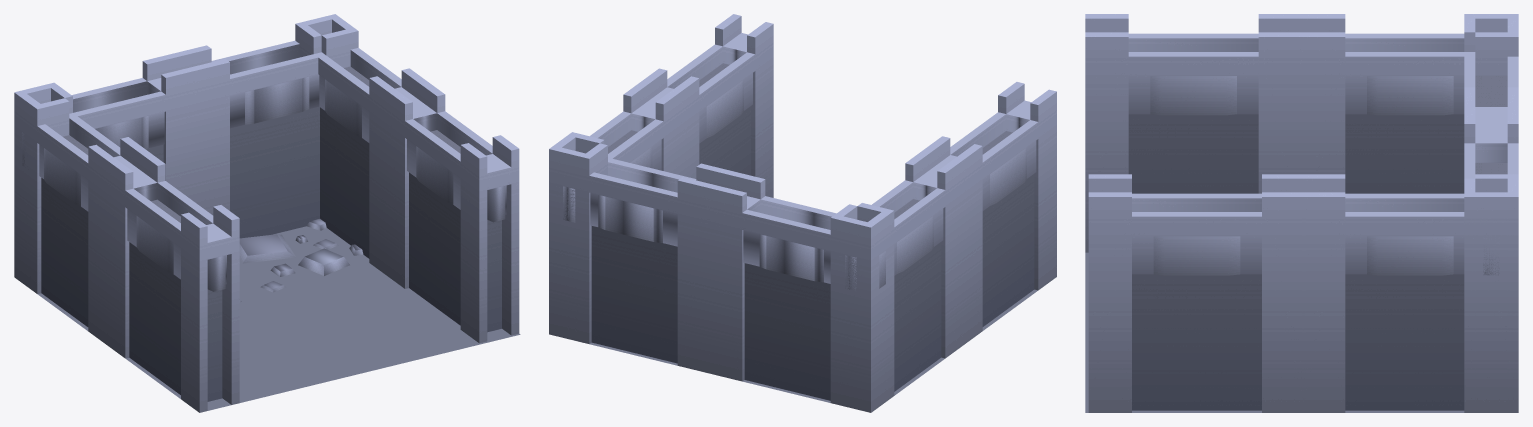
Rendered from Tile_11.glb.
3 views of the same model, side by side, from view 1: azimuth 30°, elevation 25°; view 2: azimuth 150°, elevation 25°; view 3: azimuth 270°, elevation 25° (orthographic). The views are drawn at different scales.
Parts seen in each view (by area): view 1: tile_11; view 2: tile_11; view 3: tile_11.
Boxes of the visible parts, x1,y1,x2,y2 form: tile_11: (14, 14, 520, 412); tile_11: (549, 14, 1056, 412); tile_11: (1085, 14, 1518, 412).
Size of the model in its own units: 2 by 1.1 by 2.
10 materials, 10 textured.
